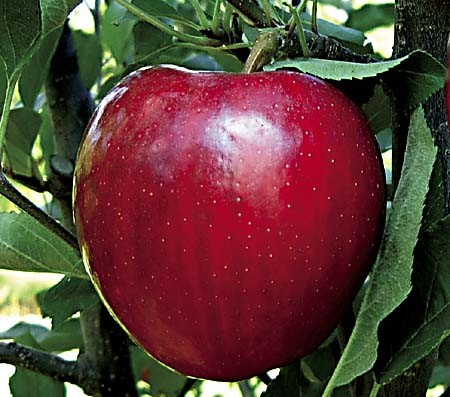apple: (69, 59, 390, 384)
